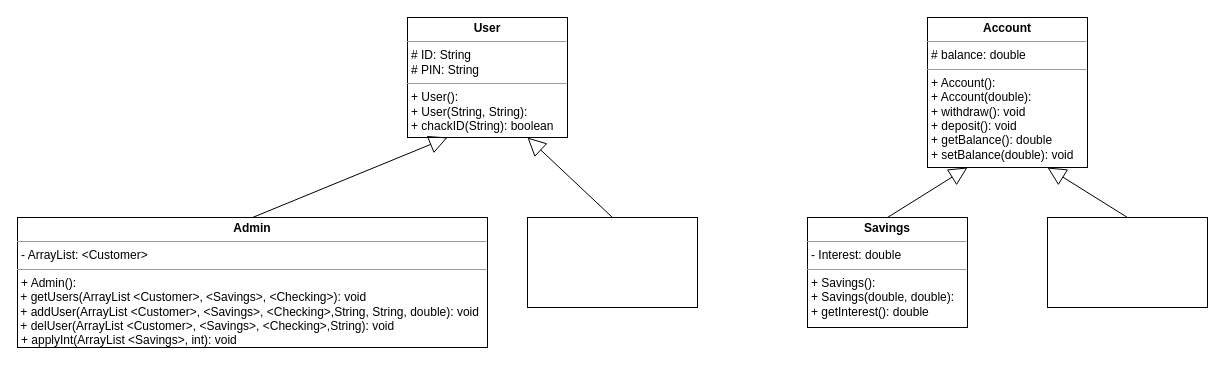
Some shapes in this 1225 by 365 pixel diagram are drawn without their labels. Each missing label, with the centre of its shape:
Checking + Checking(): + Checking(double):: (x=1127, y=262)
Customer + Customer(): + Customer(String, String):: (x=612, y=262)
